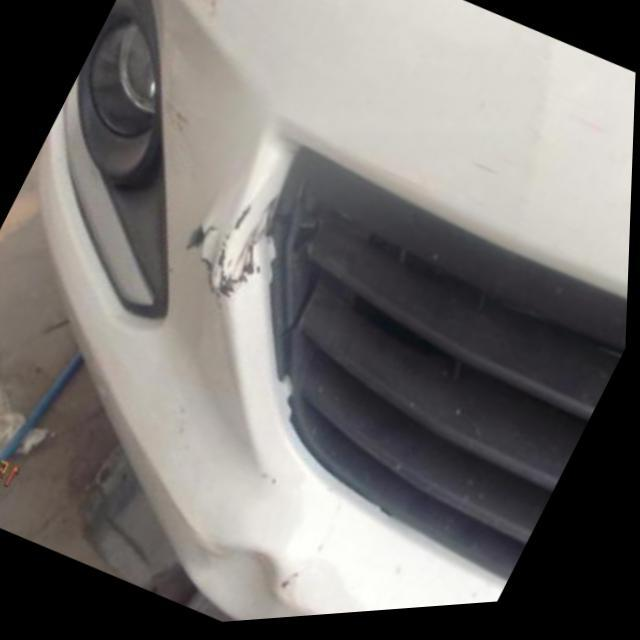crack: (201, 200, 278, 307), (278, 559, 374, 621), (185, 219, 224, 279), (160, 102, 198, 148)
dent: (190, 543, 300, 625), (514, 41, 562, 213)
scratch: (178, 0, 220, 15)
